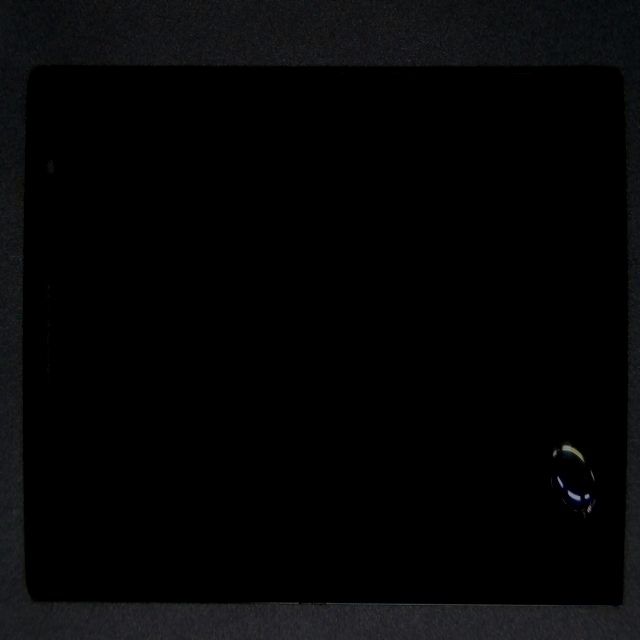oil: (256, 219, 640, 640)
